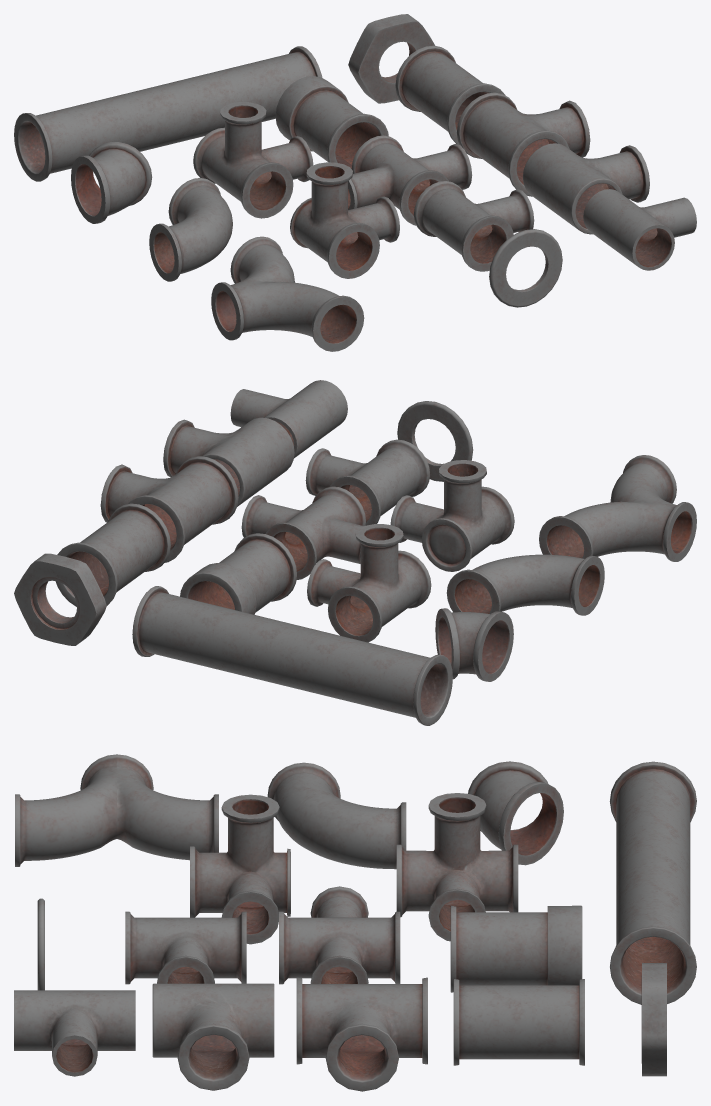
File: PipePieces_EmbeddedTextures.fbx
The picture shows the model from 3 angles, top to bottom: view 1: azimuth 30°, elevation 25°; view 2: azimuth 150°, elevation 25°; view 3: azimuth 270°, elevation 25°; orthographic projection. The views are drawn at different scales.
Parts seen in each view (by area): view 1: PipesFittings, PipesFittings.009, PipesFittings.006, PipesFittings.007, PipesFittings.010, PipesFittings.002, PipesFittings.003, PipesFittings.005, PipesFittings.014, PipesFittings.001, PipesFittings.008, PipesFittings.011 (+3 smaller); view 2: PipesFittings, PipesFittings.009, PipesFittings.006, PipesFittings.007, PipesFittings.008, PipesFittings.010, PipesFittings.005, PipesFittings.002, PipesFittings.011, PipesFittings.014, PipesFittings.003, PipesFittings.013 (+3 smaller); view 3: PipesFittings, PipesFittings.009, PipesFittings.010, PipesFittings.002, PipesFittings.006, PipesFittings.014, PipesFittings.011, PipesFittings.007, PipesFittings.005, PipesFittings.008, PipesFittings.001, PipesFittings.003 (+3 smaller).
Boxes of the visible parts, x1=… form: PipesFittings: x1=14, y1=46, x2=322, y2=181; PipesFittings.009: x1=211, y1=236, x2=364, y2=351; PipesFittings.006: x1=193, y1=102, x2=313, y2=218; PipesFittings.007: x1=290, y1=162, x2=399, y2=278; PipesFittings.010: x1=456, y1=92, x2=590, y2=196; PipesFittings.002: x1=522, y1=143, x2=649, y2=234; PipesFittings.003: x1=413, y1=181, x2=534, y2=271; PipesFittings.005: x1=348, y1=135, x2=472, y2=225; PipesFittings.014: x1=275, y1=76, x2=388, y2=168; PipesFittings.001: x1=583, y1=189, x2=696, y2=270; PipesFittings.008: x1=149, y1=178, x2=232, y2=281; PipesFittings.011: x1=395, y1=45, x2=505, y2=144; PipesFittings: x1=132, y1=586, x2=452, y2=725; PipesFittings.009: x1=539, y1=455, x2=696, y2=561; PipesFittings.006: x1=307, y1=524, x2=431, y2=642; PipesFittings.007: x1=390, y1=460, x2=514, y2=571; PipesFittings.008: x1=446, y1=554, x2=604, y2=615; PipesFittings.010: x1=100, y1=456, x2=238, y2=562; PipesFittings.005: x1=241, y1=486, x2=365, y2=580; PipesFittings.002: x1=163, y1=417, x2=294, y2=506; PipesFittings.011: x1=55, y1=503, x2=170, y2=606; PipesFittings.014: x1=180, y1=533, x2=296, y2=614; PipesFittings.003: x1=305, y1=439, x2=429, y2=525; PipesFittings.013: x1=14, y1=553, x2=106, y2=645; PipesFittings: x1=609, y1=761, x2=696, y2=1004; PipesFittings.009: x1=15, y1=754, x2=218, y2=866; PipesFittings.010: x1=296, y1=977, x2=427, y2=1091; PipesFittings.002: x1=152, y1=983, x2=274, y2=1090; PipesFittings.006: x1=396, y1=793, x2=518, y2=941; PipesFittings.014: x1=450, y1=905, x2=582, y2=992; PipesFittings.011: x1=453, y1=979, x2=584, y2=1065; PipesFittings.007: x1=190, y1=794, x2=290, y2=944; PipesFittings.005: x1=279, y1=886, x2=400, y2=984; PipesFittings.008: x1=267, y1=762, x2=406, y2=869; PipesFittings.001: x1=14, y1=990, x2=135, y2=1076; PipesFittings.003: x1=125, y1=911, x2=246, y2=984.
Size of the model in its own units: 99.6 by 21.05 by 106.
1 material, 1 textured.
